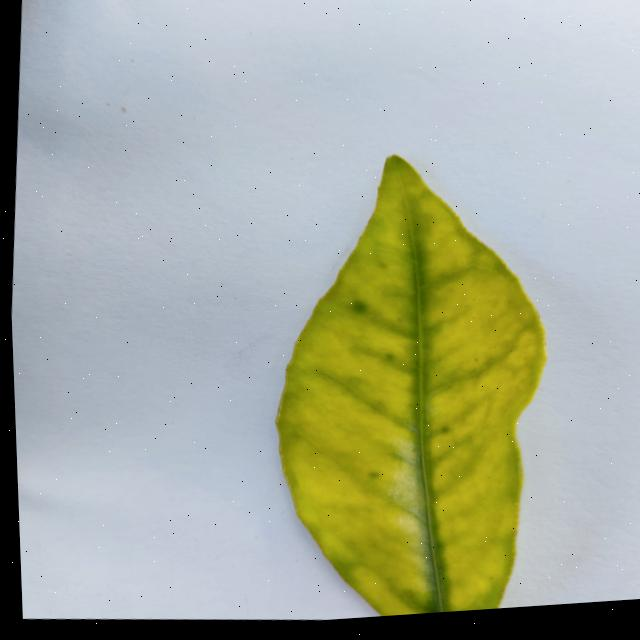greening: (276, 155, 545, 616)
